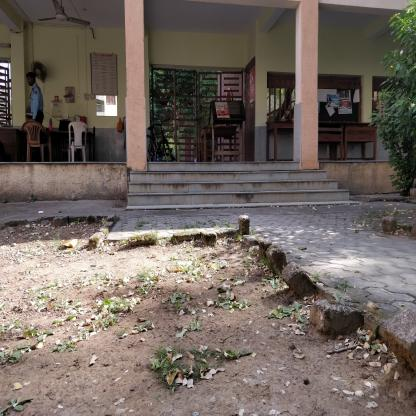stairs: (149, 161, 303, 213)
